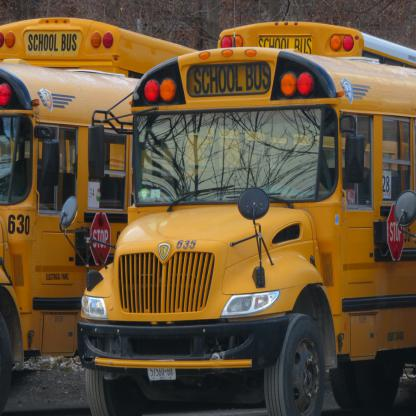Bus: (0, 59, 410, 414), (59, 21, 416, 416), (0, 18, 203, 182)
